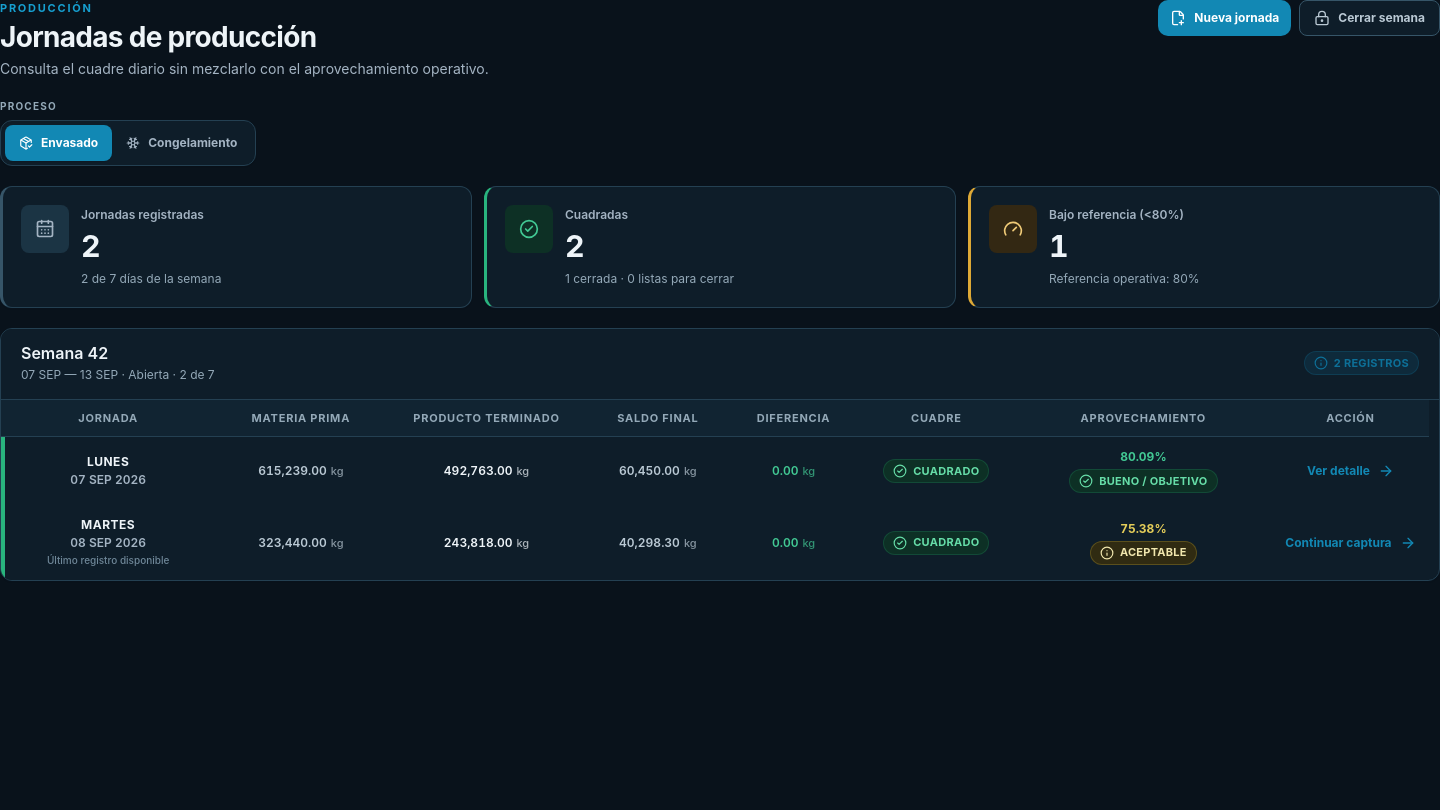
Test: production days page › identifies a registered draft that blocks manual week closure
Click the button "Cerrar semana" at coordinates (1370, 18), box [1299,0,1439,36]
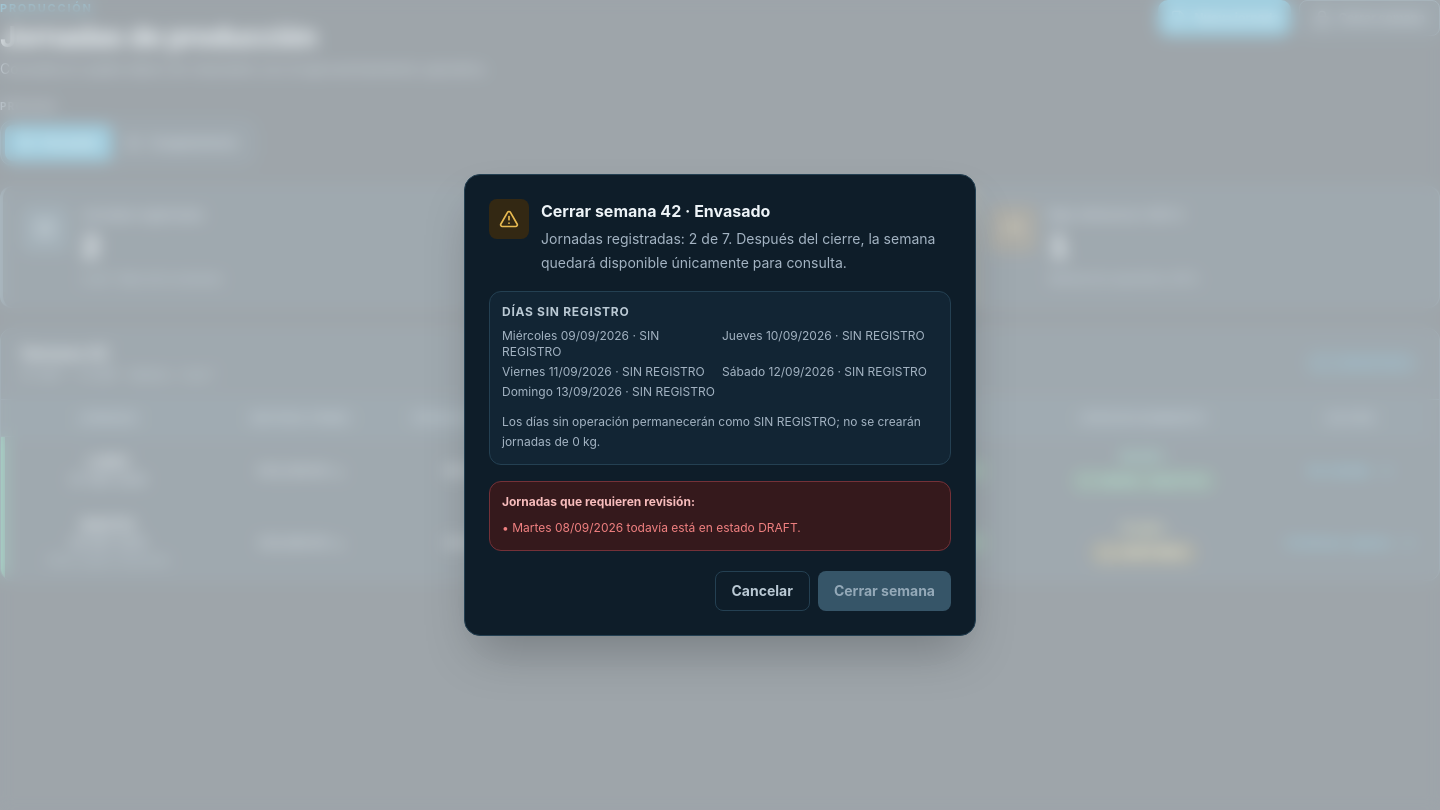
Check: the list item "• Martes 08/09/2026 todavía está en estado DRAFT." is shown, box [502,520,801,535]
Check: the button "Cerrar semana" is disabled, box [818,571,951,611]
